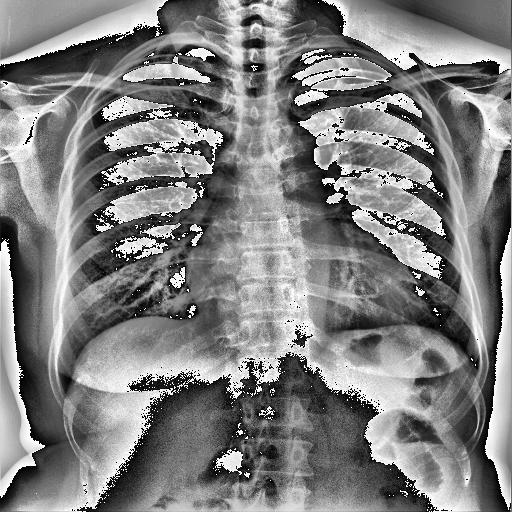3- Cardiomegaly: (178, 252, 434, 340), (181, 250, 427, 324), (186, 249, 424, 323), (262, 120, 322, 172)
